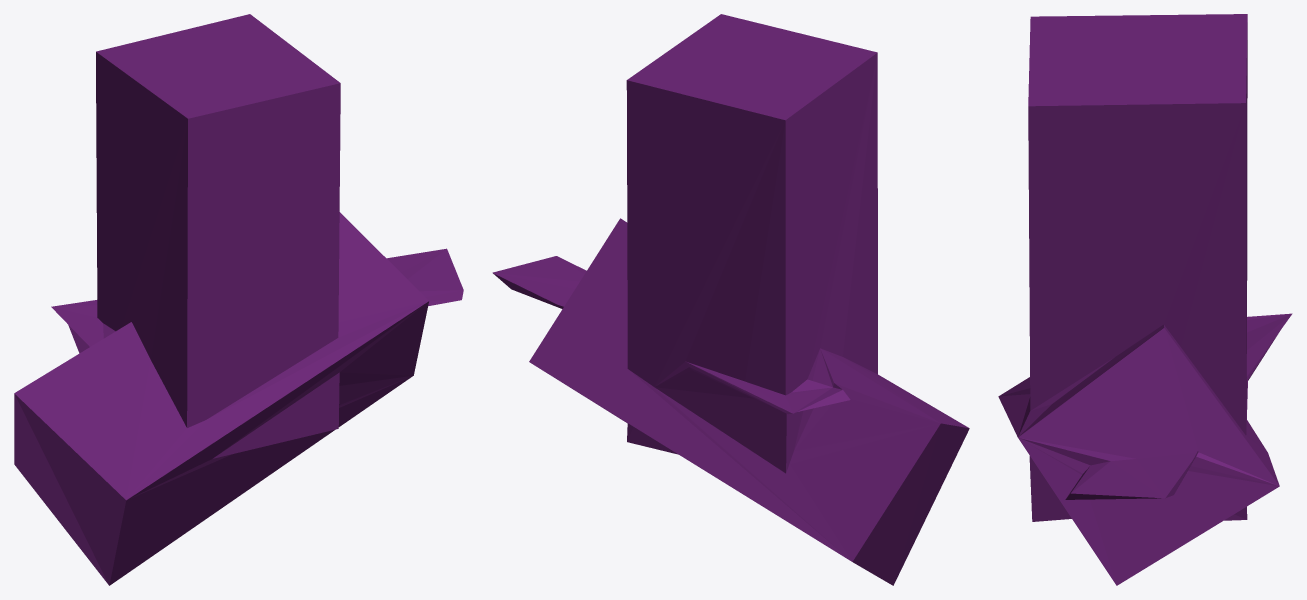
3 views of the same model, side by side, from view 1: azimuth 30°, elevation 25°; view 2: azimuth 150°, elevation 25°; view 3: azimuth 270°, elevation 25° (orthographic). The views are drawn at different scales.
Visible parts, largest first — view 1: 112_Cube.469; view 2: 112_Cube.469; view 3: 112_Cube.469.
Boxes of the visible parts, x1,y1,x2,y2 form: 112_Cube.469: [14, 14, 463, 585]; 112_Cube.469: [492, 14, 969, 585]; 112_Cube.469: [998, 14, 1292, 585].
Size of the model in its own units: 15.65 by 16.64 by 7.69.
